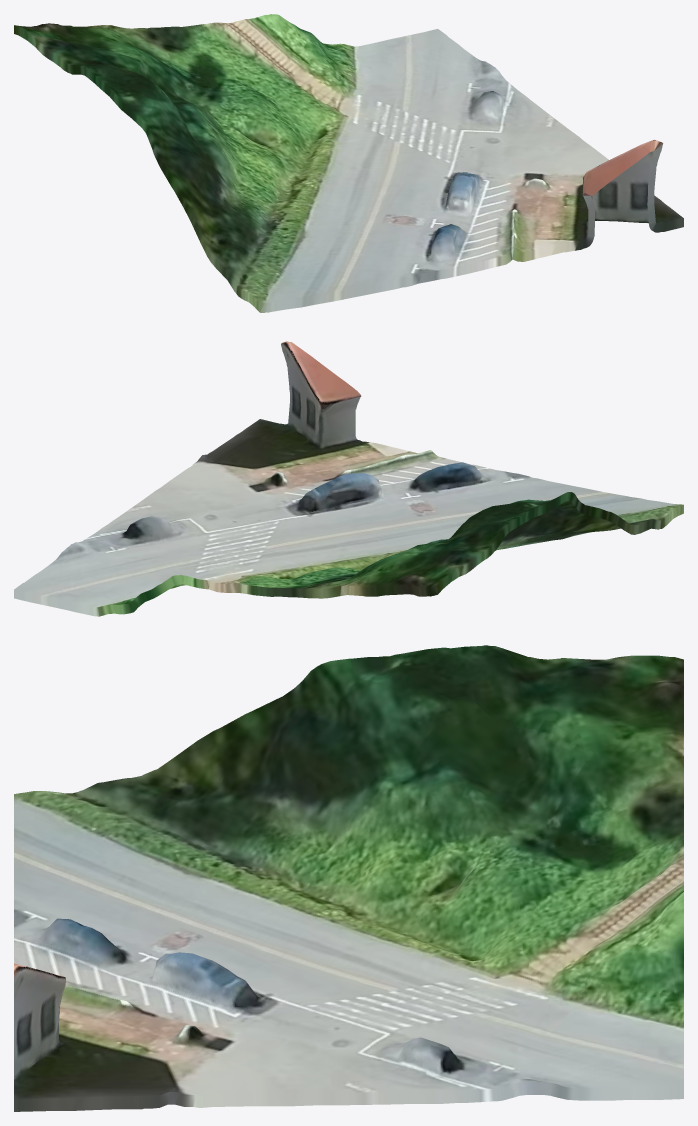
File: z20-167563-405172-h0-yup-uvflip-v3-world.glb
The picture shows the model from 3 angles, top to bottom: view 1: azimuth 30°, elevation 25°; view 2: azimuth 150°, elevation 25°; view 3: azimuth 270°, elevation 25°; orthographic projection. The views are drawn at different scales.
Size of the model in its own units: 30.16 by 9.24 by 30.32.
Materials: 1 (1 with a texture image).
